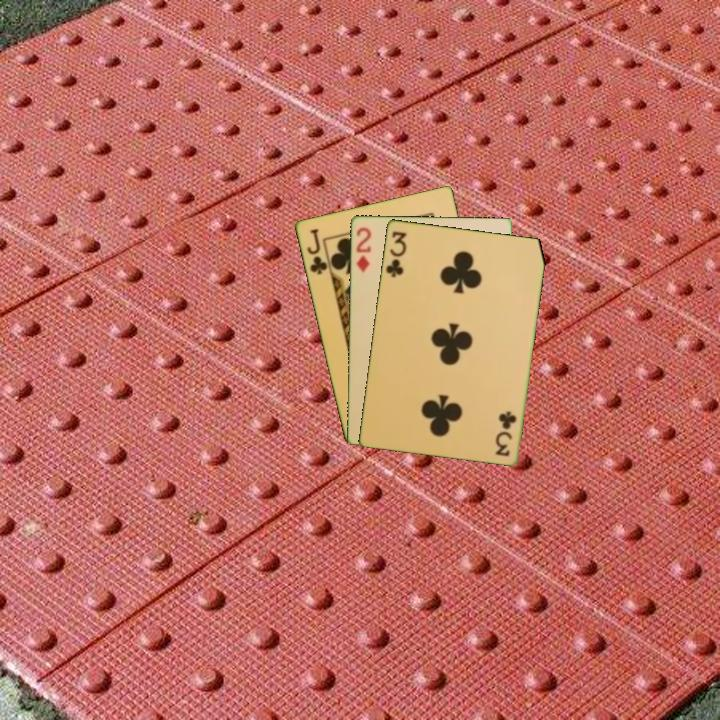2d: (352, 224, 373, 274)
3c: (382, 227, 409, 280), (493, 407, 519, 459)
Jc: (303, 225, 330, 277)
